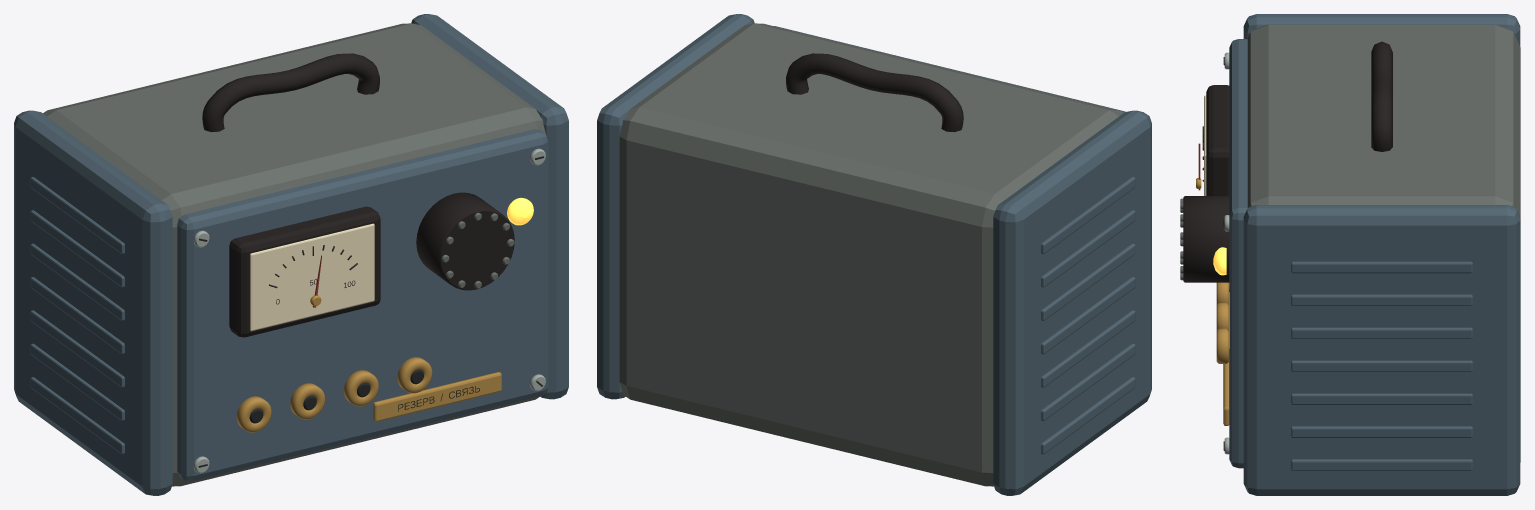
Rendered from BackupCommunicationsUnit.fbx.
3 renders of one model, left to right at view 1: azimuth 30°, elevation 25°; view 2: azimuth 150°, elevation 25°; view 3: azimuth 270°, elevation 25°, orthographic.
Parts seen in each view (by area): view 1: Front panel, Ribbed radio chassis, Corner bumper, Ivory dial.004, Corner bumper.001, Tuning knob, Gauge frame.004, Recessed carry handle, Nameplate /, Side cooling fin, Side cooling fin.005, Side cooling fin.001 (+9 smaller); view 2: Ribbed radio chassis, Corner bumper, Corner bumper.001, Recessed carry handle, Side cooling fin, Side cooling fin.005, Side cooling fin.001, Side cooling fin.002, Side cooling fin.003, Side cooling fin.004, Side cooling fin.006; view 3: Corner bumper.001, Ribbed radio chassis, Front panel, Tuning knob, Corner bumper, Gauge frame.004, Side cooling fin.013, Recessed carry handle, Side cooling fin.007, Side cooling fin.008, Side cooling fin.009, Side cooling fin.010 (+4 smaller).
Part boxes in pixels (<box>): Front panel: <box>177,129,548,480</box>; Ribbed radio chassis: <box>43,23,546,486</box>; Corner bumper: <box>14,110,172,495</box>; Ivory dial.004: <box>250,223,374,331</box>; Corner bumper.001: <box>411,14,568,399</box>; Tuning knob: <box>416,192,514,290</box>; Gauge frame.004: <box>229,206,380,337</box>; Recessed carry handle: <box>202,53,379,132</box>; Nameplate /: <box>373,372,501,421</box>; Side cooling fin: <box>30,377,124,454</box>; Side cooling fin.005: <box>30,210,124,287</box>; Side cooling fin.001: <box>30,343,124,420</box>; Ribbed radio chassis: <box>619,23,1122,486</box>; Corner bumper: <box>993,110,1151,495</box>; Corner bumper.001: <box>597,14,754,399</box>; Recessed carry handle: <box>786,53,963,132</box>; Side cooling fin: <box>1041,377,1135,454</box>; Side cooling fin.005: <box>1041,210,1135,287</box>; Side cooling fin.001: <box>1041,343,1135,420</box>; Side cooling fin.002: <box>1041,310,1135,387</box>; Side cooling fin.003: <box>1041,277,1135,354</box>; Side cooling fin.004: <box>1041,243,1135,320</box>; Side cooling fin.006: <box>1041,177,1135,253</box>; Corner bumper.001: <box>1243,205,1520,495</box>; Ribbed radio chassis: <box>1247,24,1520,462</box>; Front panel: <box>1229,39,1247,468</box>; Tuning knob: <box>1183,196,1229,282</box>; Corner bumper: <box>1243,14,1520,46</box>; Gauge frame.004: <box>1206,85,1229,195</box>; Side cooling fin.013: <box>1291,261,1472,273</box>; Recessed carry handle: <box>1371,41,1392,151</box>; Side cooling fin.007: <box>1291,459,1472,470</box>; Side cooling fin.008: <box>1291,426,1472,437</box>; Side cooling fin.009: <box>1291,393,1472,404</box>; Side cooling fin.010: <box>1291,360,1472,371</box>.
Size of the model in its own units: 0.636 by 0.472 by 0.4405.
